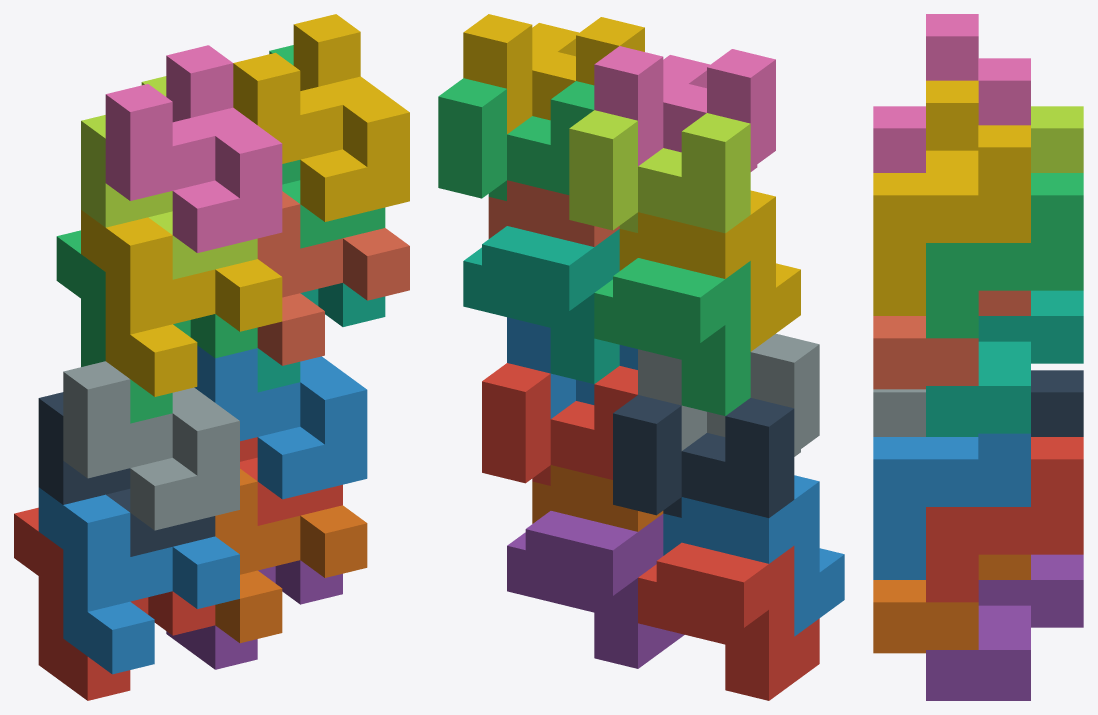
File: tiling.obj
3 views of the same model, side by side, from view 1: azimuth 30°, elevation 25°; view 2: azimuth 150°, elevation 25°; view 3: azimuth 270°, elevation 25° (orthographic). The views are drawn at different scales.
Parts seen in each view (by area): view 1: copy_2_domain_4, copy_2_domain_8, copy_2_domain_2, copy_1_domain_4, copy_1_domain_2, copy_2_domain_6, copy_1_domain_8, copy_1_domain_6, copy_1_domain_1, copy_1_domain_3, copy_2_domain_3, copy_2_domain_1 (+4 smaller); view 2: copy_2_domain_1, copy_2_domain_3, copy_1_domain_1, copy_1_domain_3, copy_1_domain_5, copy_1_domain_7, copy_2_domain_4, copy_2_domain_7, copy_2_domain_5, copy_2_domain_8, copy_1_domain_2, copy_1_domain_4 (+4 smaller); view 3: copy_2_domain_8, copy_2_domain_5, copy_2_domain_7, copy_2_domain_6, copy_1_domain_5, copy_1_domain_7, copy_2_domain_4, copy_1_domain_6, copy_1_domain_8, copy_2_domain_1, copy_2_domain_3, copy_2_domain_2 (+2 smaller).
Boxes of the visible parts, bbox=[...] form: copy_2_domain_4: bbox=[105, 45, 282, 252]; copy_2_domain_8: bbox=[233, 14, 409, 221]; copy_2_domain_2: bbox=[63, 361, 239, 530]; copy_1_domain_4: bbox=[81, 210, 282, 396]; copy_1_domain_2: bbox=[38, 487, 239, 674]; copy_2_domain_6: bbox=[194, 345, 367, 499]; copy_1_domain_8: bbox=[257, 191, 409, 365]; copy_1_domain_6: bbox=[215, 469, 367, 643]; copy_1_domain_1: bbox=[14, 507, 215, 700]; copy_1_domain_3: bbox=[56, 230, 257, 423]; copy_2_domain_3: bbox=[81, 76, 257, 279]; copy_2_domain_1: bbox=[38, 392, 215, 556]; copy_2_domain_1: bbox=[613, 395, 794, 517]; copy_2_domain_3: bbox=[569, 110, 750, 233]; copy_1_domain_1: bbox=[638, 542, 819, 700]; copy_1_domain_3: bbox=[594, 258, 750, 415]; copy_1_domain_5: bbox=[507, 511, 684, 668]; copy_1_domain_7: bbox=[463, 226, 619, 384]; copy_2_domain_4: bbox=[594, 46, 775, 171]; copy_2_domain_7: bbox=[438, 78, 594, 200]; copy_2_domain_5: bbox=[482, 363, 637, 485]; copy_2_domain_8: bbox=[463, 14, 644, 134]; copy_1_domain_2: bbox=[663, 475, 844, 636]; copy_1_domain_4: bbox=[619, 190, 800, 351]; copy_2_domain_8: bbox=[873, 80, 1030, 290]; copy_2_domain_5: bbox=[926, 437, 1083, 602]; copy_2_domain_7: bbox=[926, 173, 1083, 338]; copy_2_domain_6: bbox=[873, 433, 1030, 554]; copy_1_domain_5: bbox=[926, 554, 1083, 700]; copy_1_domain_7: bbox=[926, 290, 1083, 436]; copy_2_domain_4: bbox=[873, 14, 1030, 172]; copy_1_domain_6: bbox=[873, 554, 1030, 653]; copy_1_domain_8: bbox=[873, 290, 1030, 389]; copy_2_domain_1: bbox=[1031, 370, 1083, 436]; copy_2_domain_3: bbox=[1031, 106, 1083, 172]; copy_2_domain_2: bbox=[873, 389, 925, 436].
Size of the model in its own units: 7 by 13 by 4.
